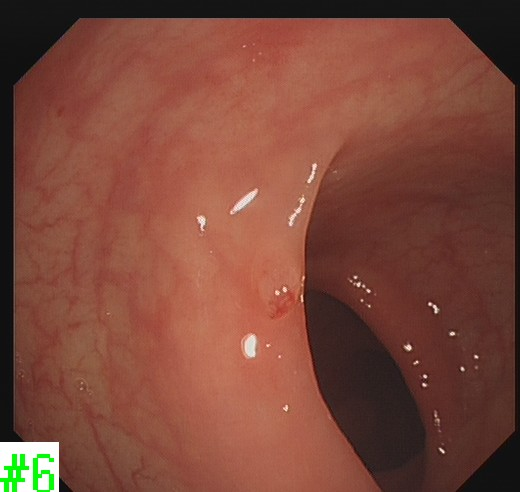others: (249, 234, 306, 320)
